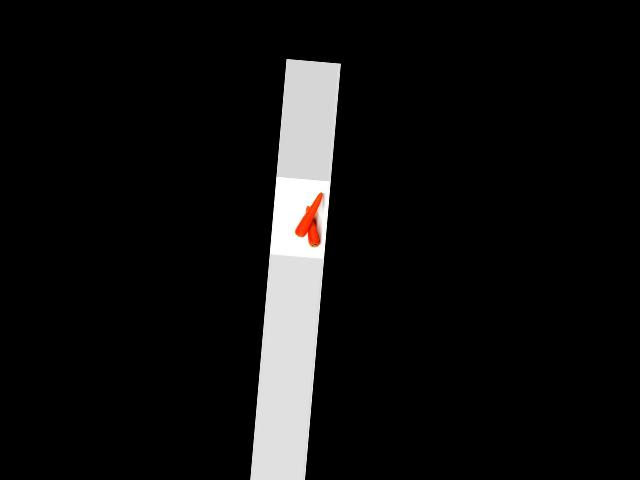carrot: (300, 202, 324, 250)
